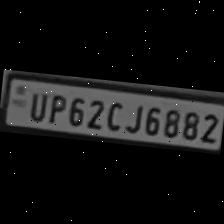2: (197, 108, 221, 144), (83, 94, 105, 130)
6: (141, 102, 164, 138), (64, 92, 86, 128)
8: (160, 104, 182, 140), (178, 106, 200, 142)
C: (102, 97, 123, 132)
J: (121, 98, 144, 134)
P: (44, 90, 66, 126)
U: (24, 88, 48, 122)
